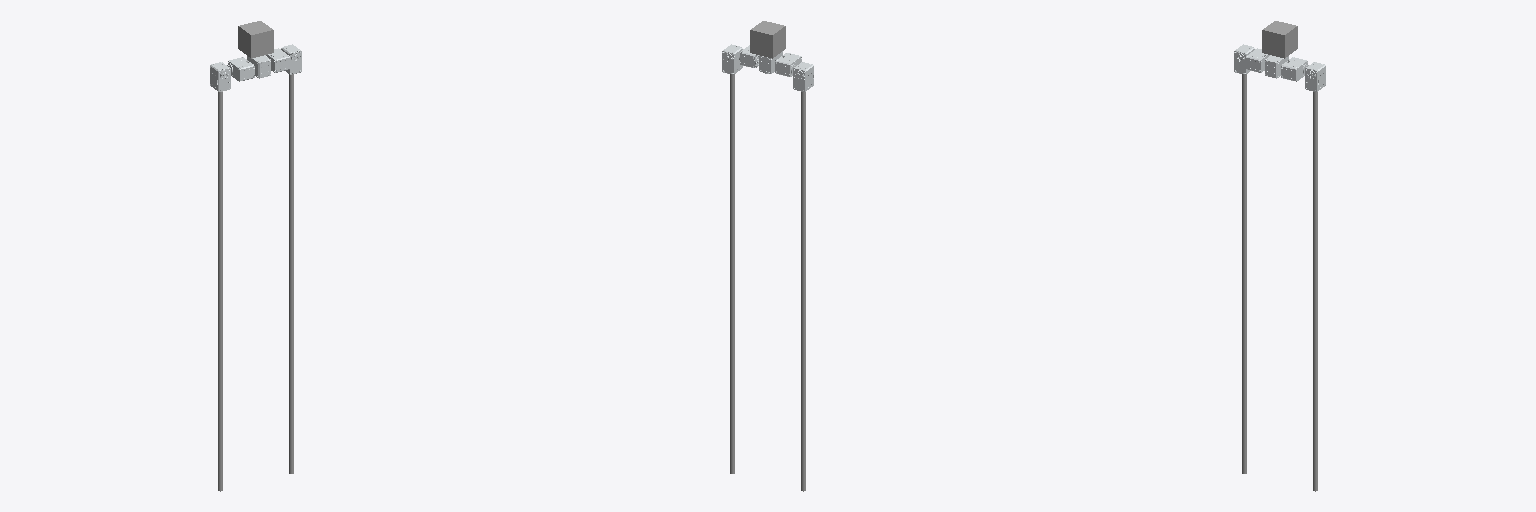
URDF robot description (chopstick_bot):
<?xml version='1.0' encoding='utf-8'?>
<robot name="chopstick_bot">
  <link name="world" />
  <joint name="world_to_base" type="fixed">
    <origin xyz="0.000000 0.000000 0.970000" rpy="0.000000 0.000000 0.000000" />
    <parent link="world" />
    <child link="base_motor_link" />
    </joint>
  <link name="base_motor_link">
    <visual>
      <origin xyz="0.000000 0.000000 0.000000" rpy="0.000000 0.000000 0.000000" />
      <geometry>
        <mesh filename="meshes/XL-430_new_coordinate_on_axis.STL" scale="0.001000 0.001000 0.001000" />
        </geometry>
      <material name="motor_mat">
        <color rgba="0.89804 0.91765 0.92941 1.0" />
        </material>
      </visual>
    <collision>
      <origin xyz="0.000000 -0.012000 0.000000" rpy="0.000000 0.000000 0.000000" />
      <geometry>
        <box size="0.028500 0.046500 0.034000" />
        </geometry>
      </collision>
    <inertial>
      <origin xyz="0.000000 -0.012000 0.000000" rpy="0.000000 0.000000 0.000000" />
      <mass value="0.065000" />
      <inertia ixx="0.000017973854" ixy="0" ixz="0" iyy="0.000010661354" iyz="0" izz="0.000016111875" />
      </inertial>
    </link>
  <link name="l_hip_pitch">
    <visual>
      <origin xyz="0.000000 0.000000 0.000000" rpy="0.000000 0.000000 0.000000" />
      <geometry>
        <mesh filename="meshes/XL-430_new_coordinate_on_axis.STL" scale="0.001000 0.001000 0.001000" />
        </geometry>
      <material name="motor_mat">
        <color rgba="0.89804 0.91765 0.92941 1.0" />
        </material>
      </visual>
    <collision>
      <origin xyz="0.000000 -0.012000 0.000000" rpy="0.000000 0.000000 0.000000" />
      <geometry>
        <box size="0.028500 0.046500 0.034000" />
        </geometry>
      </collision>
    <inertial>
      <origin xyz="0.000000 -0.012000 0.000000" rpy="0.000000 0.000000 0.000000" />
      <mass value="0.065000" />
      <inertia ixx="0.000017973854" ixy="0" ixz="0" iyy="0.000010661354" iyz="0" izz="0.000016111875" />
      </inertial>
    </link>
  <link name="l_hip_pitch_out">
    <inertial>
      <origin xyz="0.000000 0.000000 0.000000" rpy="0.000000 0.000000 0.000000" />
      <mass value="0.001000" />
      <inertia ixx="0.000000016667" ixy="0" ixz="0" iyy="0.000000016667" iyz="0" izz="0.000000016667" />
      </inertial>
    </link>
  <joint name="l_hip_pitch_mount_fixed" type="fixed">
    <origin xyz="-0.040000 0.000000 0.000000" rpy="0.000000 -1.570796 0.000000" />
    <parent link="base_motor_link" />
    <child link="l_hip_pitch" />
    </joint>
  <joint name="l_hip_pitch_joint" type="revolute">
    <origin xyz="0.000000 0.000000 0.000000" rpy="0.000000 0.000000 0.000000" />
    <parent link="l_hip_pitch" />
    <child link="l_hip_pitch_out" />
    <axis xyz="0.000000 0.000000 1.000000" />
    <limit lower="-3.14159" upper="3.14159" effort="5.0" velocity="8.0" />
    </joint>
  <link name="l_hip_roll">
    <visual>
      <origin xyz="0.000000 0.000000 0.000000" rpy="0.000000 0.000000 0.000000" />
      <geometry>
        <mesh filename="meshes/XL-430_new_coordinate_on_axis.STL" scale="0.001000 0.001000 0.001000" />
        </geometry>
      <material name="motor_mat">
        <color rgba="0.89804 0.91765 0.92941 1.0" />
        </material>
      </visual>
    <collision>
      <origin xyz="0.000000 -0.012000 0.000000" rpy="0.000000 0.000000 0.000000" />
      <geometry>
        <box size="0.028500 0.046500 0.034000" />
        </geometry>
      </collision>
    <inertial>
      <origin xyz="0.000000 -0.012000 0.000000" rpy="0.000000 0.000000 0.000000" />
      <mass value="0.065000" />
      <inertia ixx="0.000017973854" ixy="0" ixz="0" iyy="0.000010661354" iyz="0" izz="0.000016111875" />
      </inertial>
    </link>
  <link name="l_hip_roll_out">
    <inertial>
      <origin xyz="0.000000 0.000000 0.000000" rpy="0.000000 0.000000 0.000000" />
      <mass value="0.001000" />
      <inertia ixx="0.000000016667" ixy="0" ixz="0" iyy="0.000000016667" iyz="0" izz="0.000000016667" />
      </inertial>
    </link>
  <joint name="l_hip_roll_mount_fixed" type="fixed">
    <origin xyz="0.000000 0.000000 0.040000" rpy="0.000000 -1.570796 -1.570796" />
    <parent link="l_hip_pitch_out" />
    <child link="l_hip_roll" />
    </joint>
  <joint name="l_hip_roll_joint" type="revolute">
    <origin xyz="0.000000 0.000000 0.000000" rpy="0.000000 0.000000 0.000000" />
    <parent link="l_hip_roll" />
    <child link="l_hip_roll_out" />
    <axis xyz="0.000000 0.000000 1.000000" />
    <limit lower="-3.14159" upper="3.14159" effort="5.0" velocity="8.0" />
    </joint>
  <link name="l_end_effector">
    <visual>
      <origin xyz="0.000000 0.000000 0.000000" rpy="1.570796 0.000000 0.000000" />
      <geometry>
        <cylinder radius="0.005000" length="0.900000" />
        </geometry>
      <material name="cylinder_mat">
        <color rgba="0.7 0.7 0.7 1.0" />
        </material>
      </visual>
    <collision>
      <origin xyz="0.000000 -0.450000 0.000000" rpy="0.000000 0.000000 0.000000" />
      <geometry>
        <box size="0.020000 0.020000 0.020000" />
        </geometry>
      </collision>
    <inertial>
      <origin xyz="0.000000 0.000000 0.000000" rpy="0.000000 0.000000 0.000000" />
      <mass value="0.035343" />
      <inertia ixx="0.002385867815" ixy="0" ixz="0" iyy="0.002385867815" iyz="0" izz="0.000000441786" />
      </inertial>
    </link>
  <joint name="l_end_effector_fixed" type="fixed">
    <origin xyz="0.000000 -0.450000 0.000000" rpy="0.000000 0.000000 0.000000" />
    <parent link="l_hip_roll_out" />
    <child link="l_end_effector" />
    </joint>
  <link name="r_hip_pitch">
    <visual>
      <origin xyz="0.000000 0.000000 0.000000" rpy="0.000000 0.000000 0.000000" />
      <geometry>
        <mesh filename="meshes/XL-430_new_coordinate_on_axis.STL" scale="0.001000 0.001000 0.001000" />
        </geometry>
      <material name="motor_mat">
        <color rgba="0.89804 0.91765 0.92941 1.0" />
        </material>
      </visual>
    <collision>
      <origin xyz="0.000000 -0.012000 0.000000" rpy="0.000000 0.000000 0.000000" />
      <geometry>
        <box size="0.028500 0.046500 0.034000" />
        </geometry>
      </collision>
    <inertial>
      <origin xyz="0.000000 -0.012000 0.000000" rpy="0.000000 0.000000 0.000000" />
      <mass value="0.065000" />
      <inertia ixx="0.000017973854" ixy="0" ixz="0" iyy="0.000010661354" iyz="0" izz="0.000016111875" />
      </inertial>
    </link>
  <link name="r_hip_pitch_out">
    <inertial>
      <origin xyz="0.000000 0.000000 0.000000" rpy="0.000000 0.000000 0.000000" />
      <mass value="0.001000" />
      <inertia ixx="0.000000016667" ixy="0" ixz="0" iyy="0.000000016667" iyz="0" izz="0.000000016667" />
      </inertial>
    </link>
  <joint name="r_hip_pitch_mount_fixed" type="fixed">
    <origin xyz="0.040000 0.000000 0.000000" rpy="0.000000 1.570796 -0.000000" />
    <parent link="base_motor_link" />
    <child link="r_hip_pitch" />
    </joint>
  <joint name="r_hip_pitch_joint" type="revolute">
    <origin xyz="0.000000 0.000000 0.000000" rpy="0.000000 0.000000 0.000000" />
    <parent link="r_hip_pitch" />
    <child link="r_hip_pitch_out" />
    <axis xyz="0.000000 0.000000 1.000000" />
    <limit lower="-3.14159" upper="3.14159" effort="5.0" velocity="8.0" />
    </joint>
  <link name="r_hip_roll">
    <visual>
      <origin xyz="0.000000 0.000000 0.000000" rpy="0.000000 0.000000 0.000000" />
      <geometry>
        <mesh filename="meshes/XL-430_new_coordinate_on_axis.STL" scale="0.001000 0.001000 0.001000" />
        </geometry>
      <material name="motor_mat">
        <color rgba="0.89804 0.91765 0.92941 1.0" />
        </material>
      </visual>
    <collision>
      <origin xyz="0.000000 -0.012000 0.000000" rpy="0.000000 0.000000 0.000000" />
      <geometry>
        <box size="0.028500 0.046500 0.034000" />
        </geometry>
      </collision>
    <inertial>
      <origin xyz="0.000000 -0.012000 0.000000" rpy="0.000000 0.000000 0.000000" />
      <mass value="0.065000" />
      <inertia ixx="0.000017973854" ixy="0" ixz="0" iyy="0.000010661354" iyz="0" izz="0.000016111875" />
      </inertial>
    </link>
  <link name="r_hip_roll_out">
    <inertial>
      <origin xyz="0.000000 0.000000 0.000000" rpy="0.000000 0.000000 0.000000" />
      <mass value="0.001000" />
      <inertia ixx="0.000000016667" ixy="0" ixz="0" iyy="0.000000016667" iyz="0" izz="0.000000016667" />
      </inertial>
    </link>
  <joint name="r_hip_roll_mount_fixed" type="fixed">
    <origin xyz="-0.000000 0.000000 0.040000" rpy="0.000000 1.570796 1.570796" />
    <parent link="r_hip_pitch_out" />
    <child link="r_hip_roll" />
    </joint>
  <joint name="r_hip_roll_joint" type="revolute">
    <origin xyz="0.000000 0.000000 0.000000" rpy="0.000000 0.000000 0.000000" />
    <parent link="r_hip_roll" />
    <child link="r_hip_roll_out" />
    <axis xyz="0.000000 0.000000 1.000000" />
    <limit lower="-3.14159" upper="3.14159" effort="5.0" velocity="8.0" />
    </joint>
  <link name="r_end_effector">
    <visual>
      <origin xyz="0.000000 0.000000 0.000000" rpy="1.570796 0.000000 0.000000" />
      <geometry>
        <cylinder radius="0.005000" length="0.900000" />
        </geometry>
      <material name="cylinder_mat">
        <color rgba="0.7 0.7 0.7 1.0" />
        </material>
      </visual>
    <collision>
      <origin xyz="0.000000 -0.450000 0.000000" rpy="0.000000 0.000000 0.000000" />
      <geometry>
        <box size="0.020000 0.020000 0.020000" />
        </geometry>
      </collision>
    <inertial>
      <origin xyz="0.000000 0.000000 0.000000" rpy="0.000000 0.000000 0.000000" />
      <mass value="0.035343" />
      <inertia ixx="0.002385867815" ixy="0" ixz="0" iyy="0.002385867815" iyz="0" izz="0.000000441786" />
      </inertial>
    </link>
  <joint name="r_end_effector_fixed" type="fixed">
    <origin xyz="-0.000000 -0.450000 0.000000" rpy="0.000000 -0.000000 0.000000" />
    <parent link="r_hip_roll_out" />
    <child link="r_end_effector" />
    </joint>
  <link name="trunk_link">
    <visual>
      <origin xyz="0.000000 0.000000 0.000000" rpy="0.000000 0.000000 0.000000" />
      <geometry>
        <box size="0.050000 0.050000 0.050000" />
        </geometry>
      <material name="box_mat">
        <color rgba="0.7 0.7 0.7 1.0" />
        </material>
      </visual>
    <collision>
      <origin xyz="0.000000 0.000000 0.000000" rpy="0.000000 0.000000 0.000000" />
      <geometry>
        <box size="0.050000 0.050000 0.050000" />
        </geometry>
      </collision>
    <inertial>
      <origin xyz="0.000000 0.000000 0.000000" rpy="0.000000 0.000000 0.000000" />
      <mass value="0.200000" />
      <inertia ixx="0.000083333333" ixy="0" ixz="0" iyy="0.000083333333" iyz="0" izz="0.000083333333" />
      </inertial>
    </link>
  <joint name="base_to_trunk" type="revolute">
    <origin xyz="0.000000 0.000000 0.050000" rpy="0.000000 0.000000 0.000000" />
    <parent link="base_motor_link" />
    <child link="trunk_link" />
    <axis xyz="0.000000 0.000000 1.000000" />
    <limit lower="-3.14159" upper="3.14159" effort="5.0" velocity="8.0" />
    </joint>
  </robot>

--- Facts derived from the render (not from the file) ---
3 views of the same robot in one strip: view 1: azimuth 30°, elevation 25°; view 2: azimuth 150°, elevation 25°; view 3: azimuth 330°, elevation 25° (orthographic).
Robot: chopstick_bot — 13 links, 12 joints (5 revolute, 7 fixed); root link world; default pose: all joints at 0.
Links seen in each view (by area): view 1: r_end_effector, l_end_effector, trunk_link, l_hip_roll; view 2: r_end_effector, l_end_effector, trunk_link, l_hip_roll; view 3: l_end_effector, r_end_effector, trunk_link, r_hip_roll.
Boxes of the visible links, x1=… form: r_end_effector: x1=289, y1=74, x2=293, y2=473; l_end_effector: x1=218, y1=92, x2=222, y2=491; trunk_link: x1=238, y1=21, x2=273, y2=58; l_hip_roll: x1=210, y1=62, x2=230, y2=91; r_end_effector: x1=730, y1=74, x2=734, y2=473; l_end_effector: x1=801, y1=92, x2=805, y2=491; trunk_link: x1=750, y1=21, x2=785, y2=58; l_hip_roll: x1=793, y1=62, x2=813, y2=91; l_end_effector: x1=1242, y1=74, x2=1246, y2=473; r_end_effector: x1=1313, y1=92, x2=1317, y2=491; trunk_link: x1=1262, y1=21, x2=1297, y2=58; r_hip_roll: x1=1305, y1=62, x2=1325, y2=91.
Bounding box of the posed robot: 0.1885 × 0.0602 × 0.975 m (x, y, z).
5 mesh visuals loaded from 1 distinct referenced files (1 binary STL).
